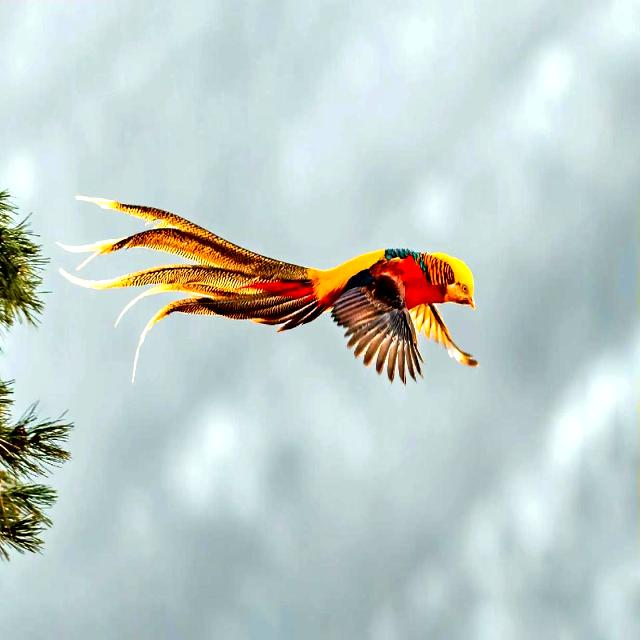Chrysolophus pictus feather: (61, 198, 326, 382)
